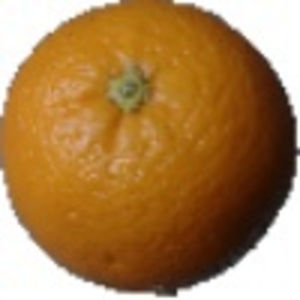laranja: (6, 3, 297, 297)
